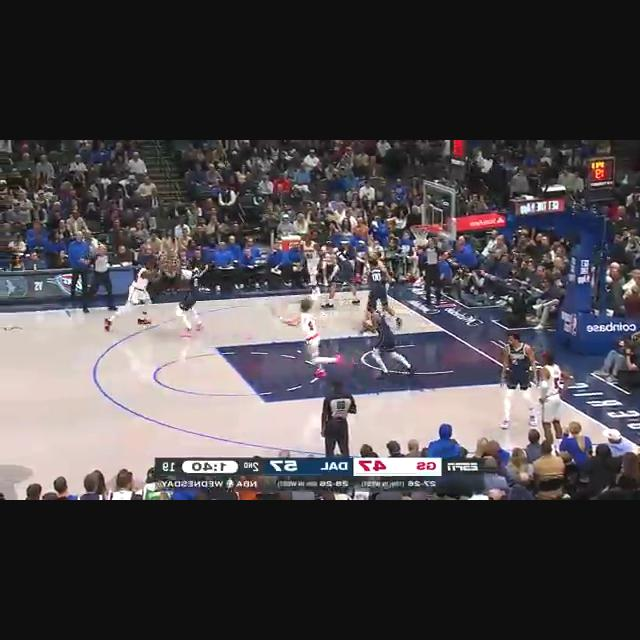Team-1-Player: (356, 298, 419, 382), (498, 330, 540, 430), (170, 256, 214, 336), (354, 259, 404, 323)
Team-2-Player: (270, 296, 348, 382), (98, 258, 170, 332), (528, 347, 574, 439), (296, 230, 326, 294)
